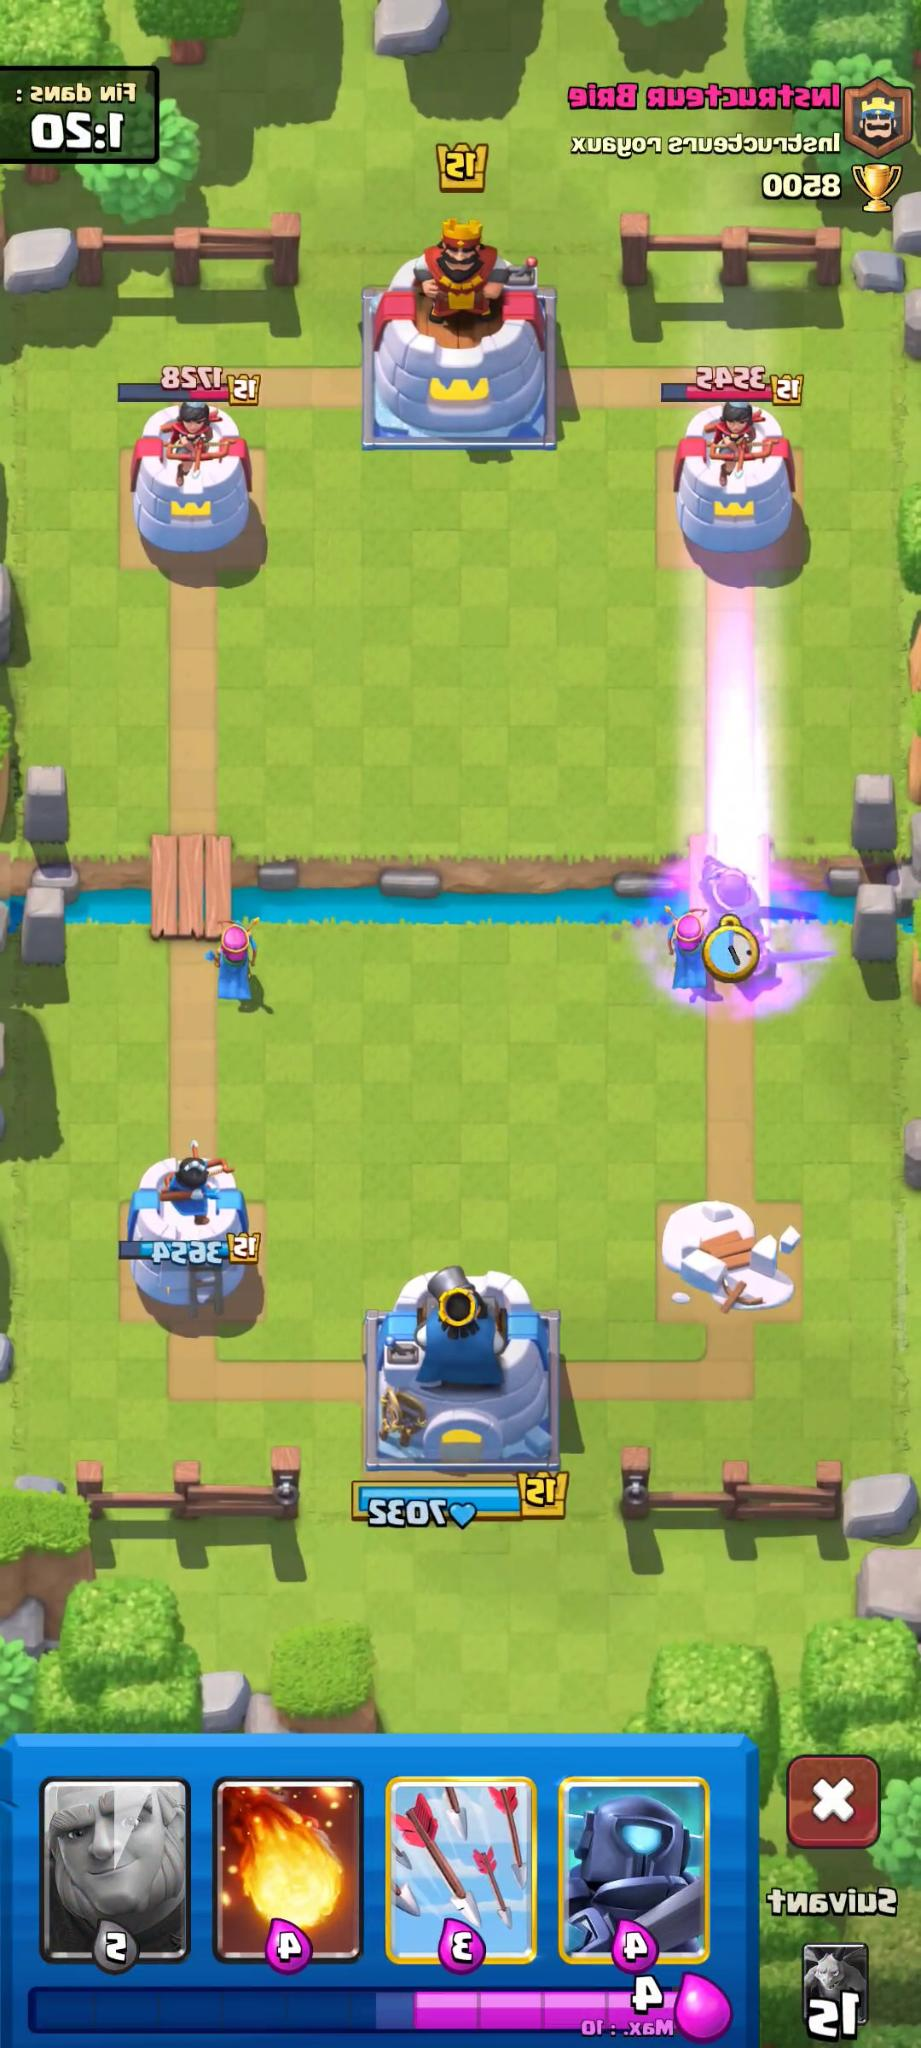archere: (661, 900, 711, 990), (214, 916, 257, 1000)
chevalier: (695, 832, 802, 978)
